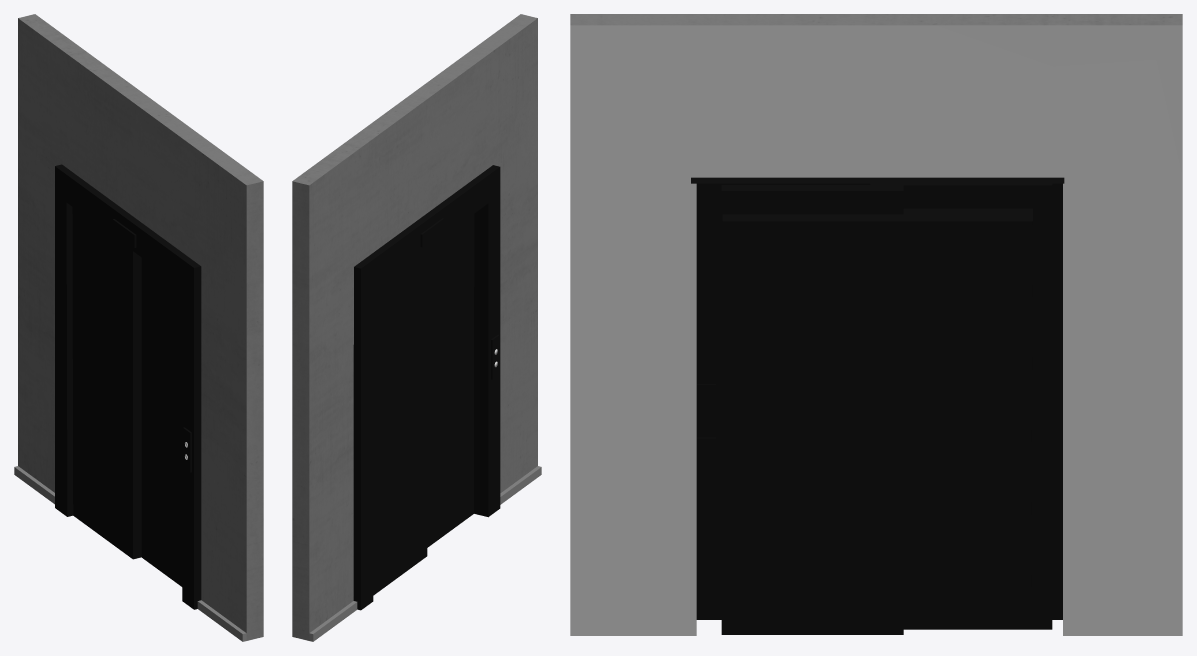
The model's file is wall_ascensor.fbx.
3 renders of one model, left to right at view 1: azimuth 30°, elevation 25°; view 2: azimuth 150°, elevation 25°; view 3: azimuth 270°, elevation 25°, orthographic. The views are drawn at different scales.
Visible parts, largest first — view 1: wall_ascensor, ascensor; view 2: wall_ascensor, ascensor; view 3: wall_ascensor, ascensor.
Part boxes in pixels (<box>): wall_ascensor: <box>14,14,263,641</box>; ascensor: <box>55,164,201,609</box>; wall_ascensor: <box>292,14,541,641</box>; ascensor: <box>353,165,500,610</box>; wall_ascensor: <box>570,14,1182,635</box>; ascensor: <box>691,177,1064,634</box>.
Bounding box in the file's own units: 0.2258 × 2.75 × 2.5.
